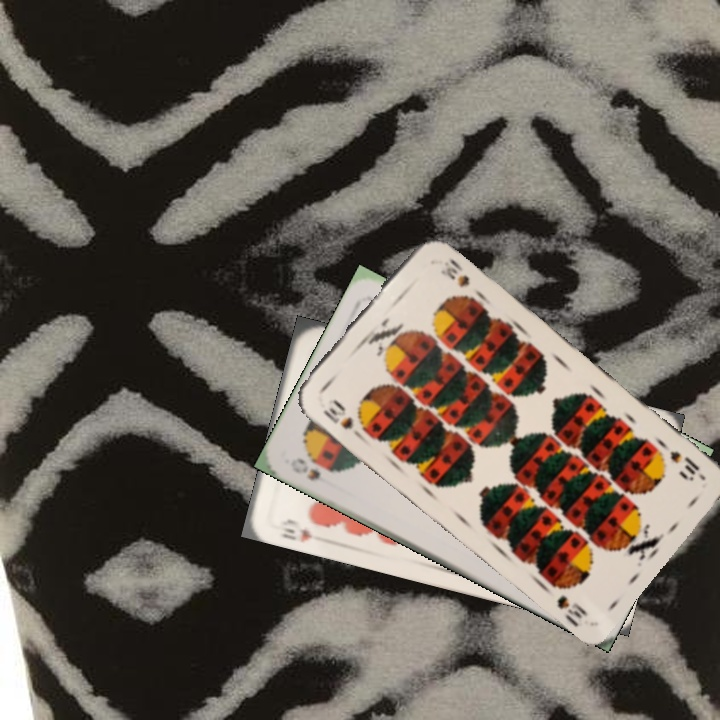H10: (276, 514, 327, 545)
S10: (319, 397, 365, 441), (666, 446, 703, 482)
SO: (286, 453, 338, 483)
